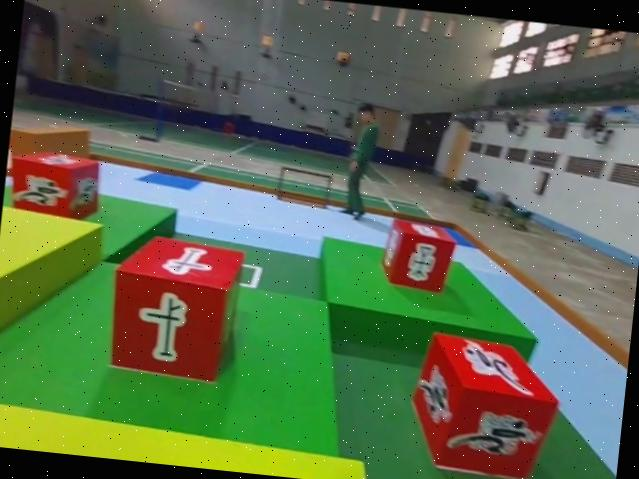R1: (403, 324, 563, 479), (2, 142, 106, 225)
R2 Real: (104, 226, 247, 389), (379, 214, 460, 299)
